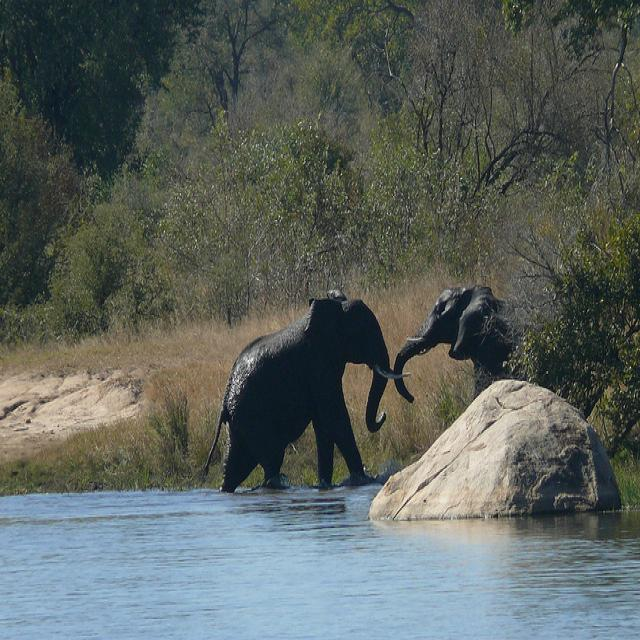Elephant: (200, 287, 414, 493), (388, 283, 531, 402)
